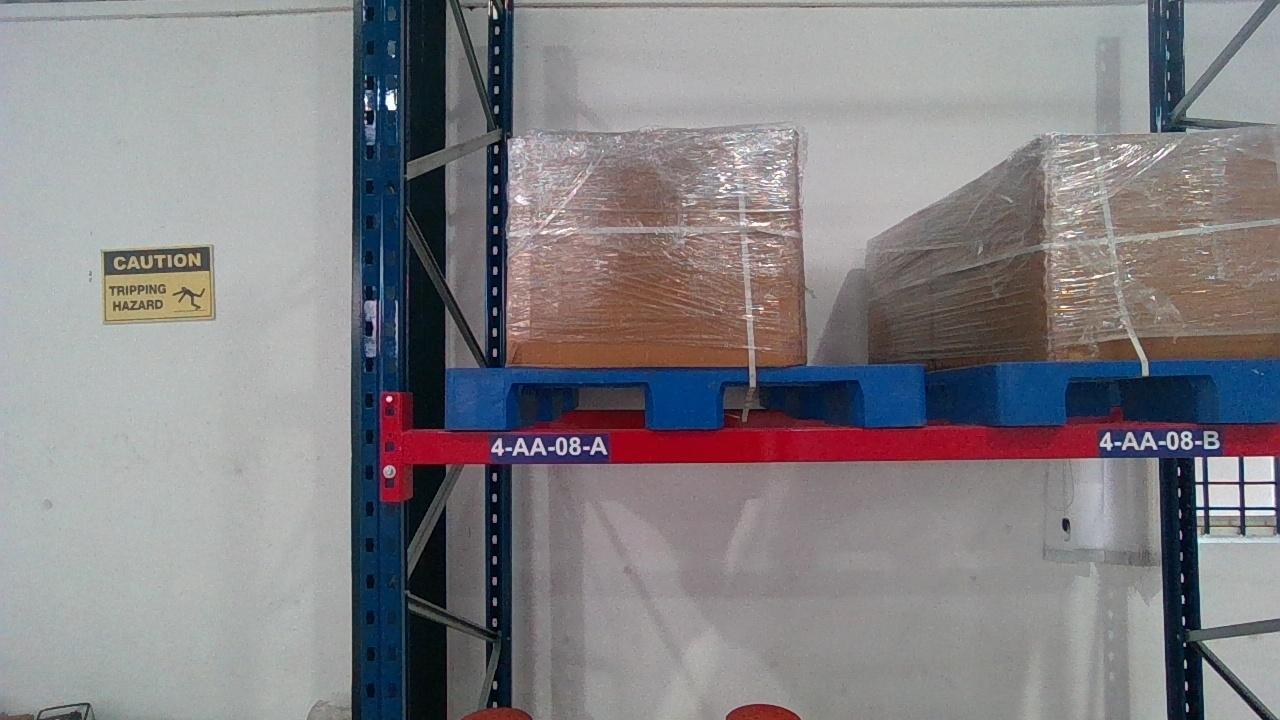h_rack: (405, 424, 1277, 462)
small_pallet: (443, 365, 926, 426), (1000, 357, 1277, 421)
